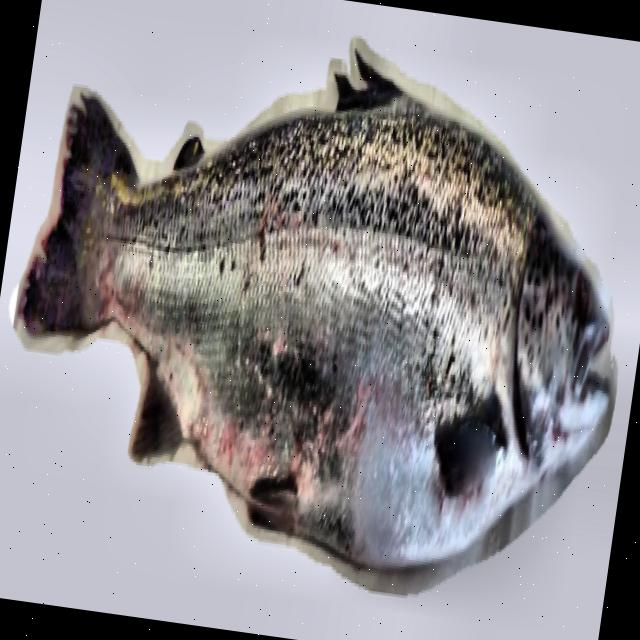mild_red: (80, 112, 524, 562)
